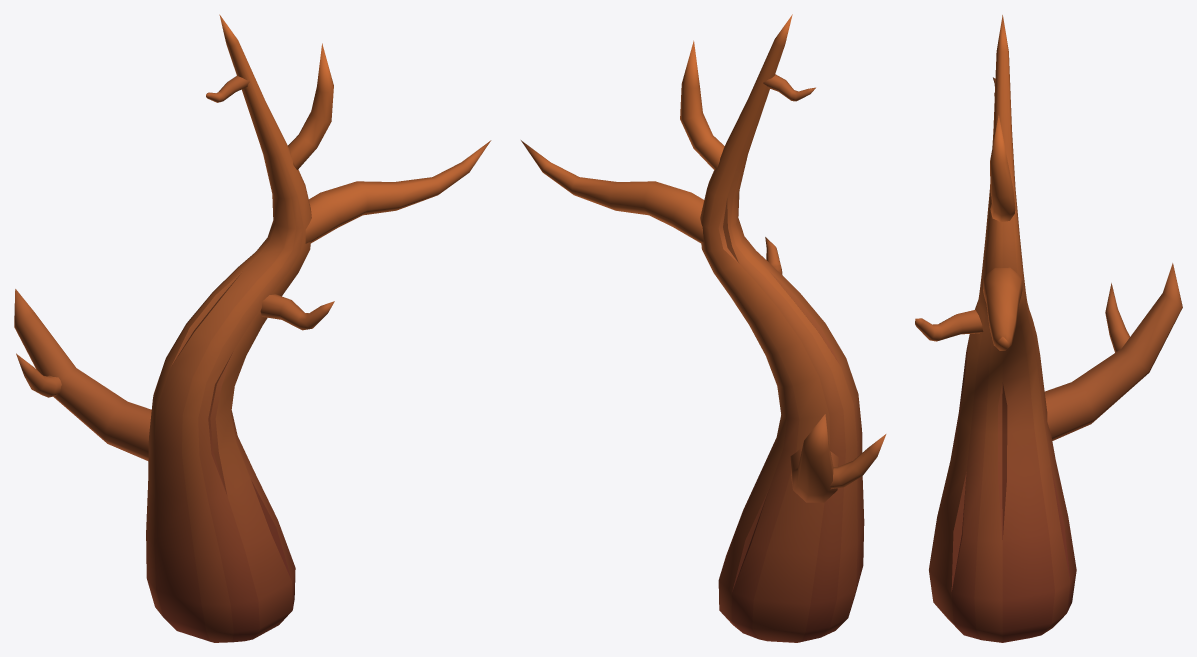
The model's file is Tree_Bare_1_C.glb.
3 renders of one model, left to right at view 1: azimuth 30°, elevation 25°; view 2: azimuth 150°, elevation 25°; view 3: azimuth 270°, elevation 25°, orthographic.
Size of the model in its own units: 3.74 by 5.26 by 2.07.
